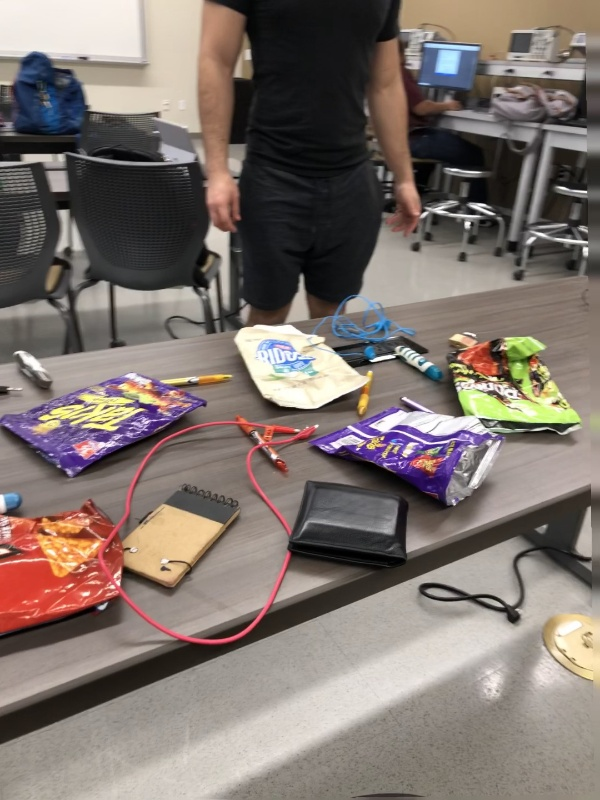bag: (1, 368, 211, 478), (310, 404, 506, 511), (1, 495, 130, 641), (445, 330, 588, 442), (231, 322, 374, 413)
